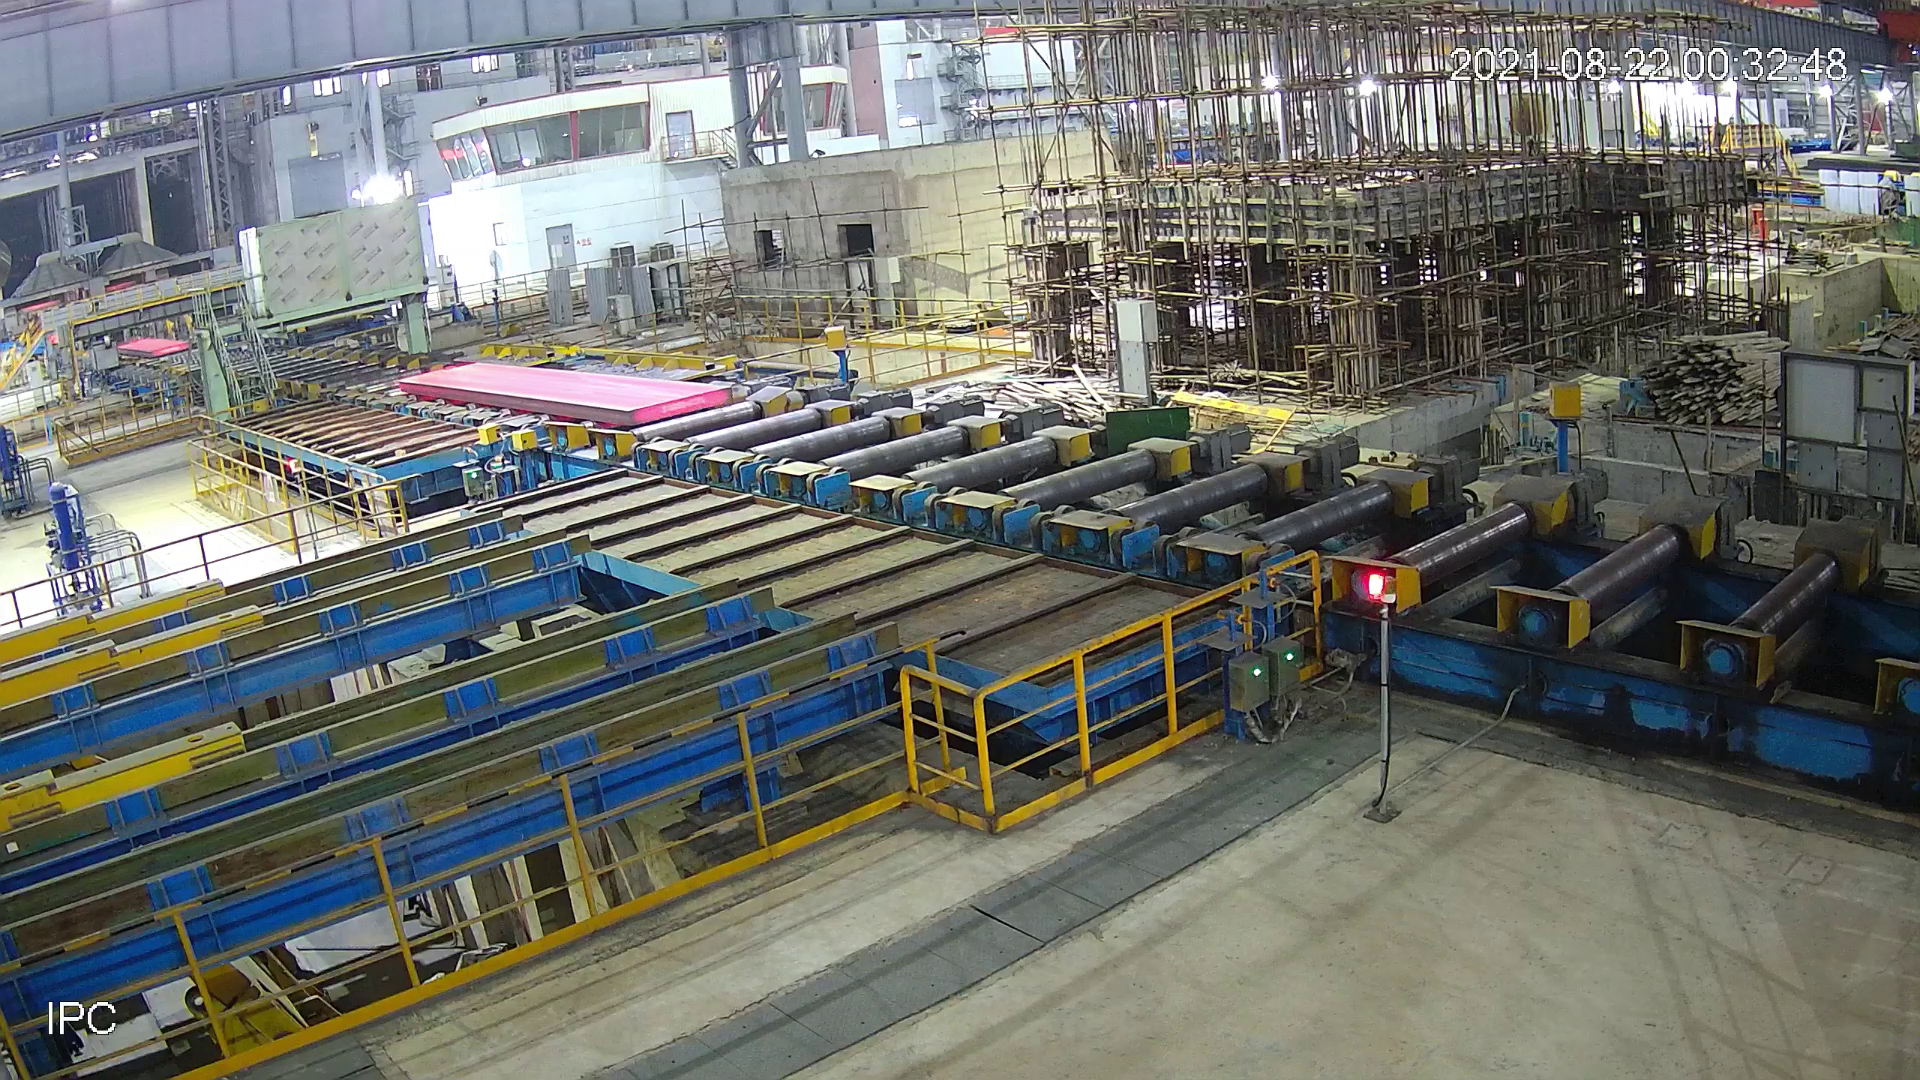slab: (392, 356, 746, 442), (111, 332, 194, 353)
